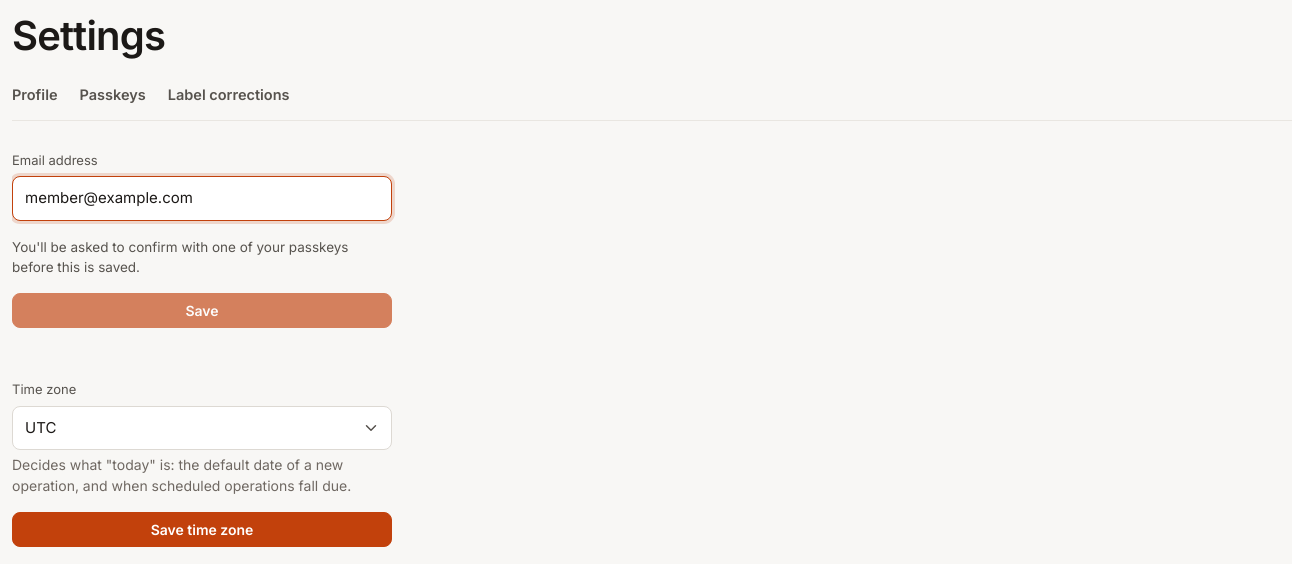
Test: ProfilePage › disables the Save button while the email is unchanged, including surrounding whitespace/case differences
Expected: the submit button is disabled, [12, 293, 392, 328]
Replace the text in the field labelled "Email address" with "  Member@Example.com  " at (202, 199), box [12, 176, 392, 221]
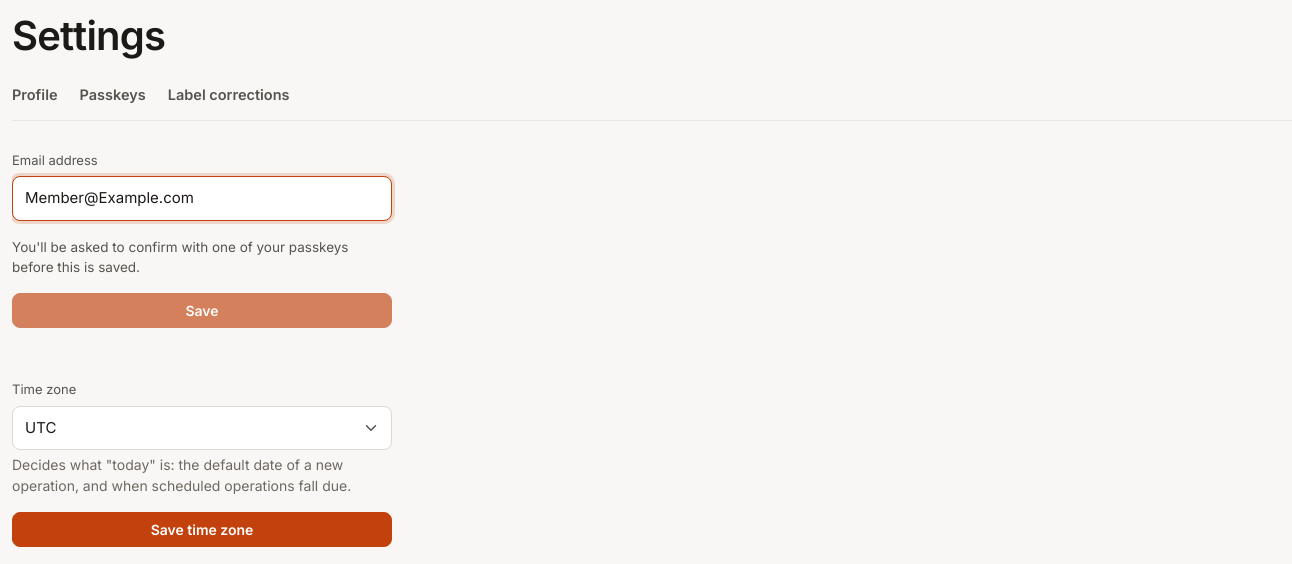
Expected: the submit button is disabled, [12, 293, 392, 328]
Replace the text in the field labelled "Email address" with "other@example.com" at (202, 199), box [12, 176, 392, 221]
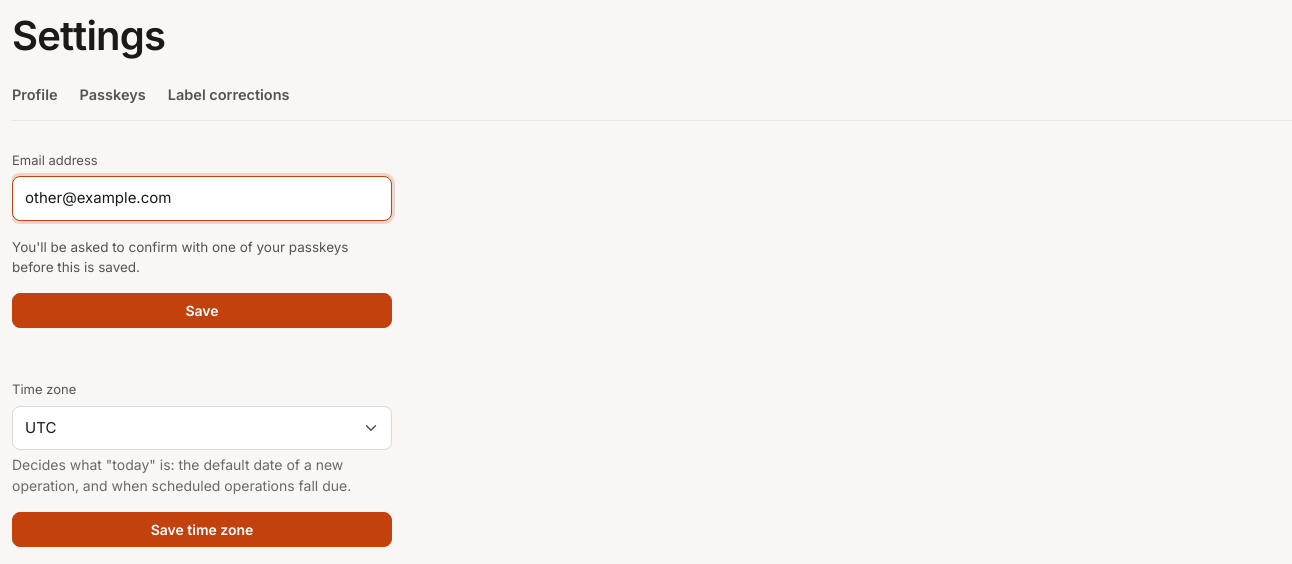
Now the submit button is enabled, box [12, 293, 392, 328]
